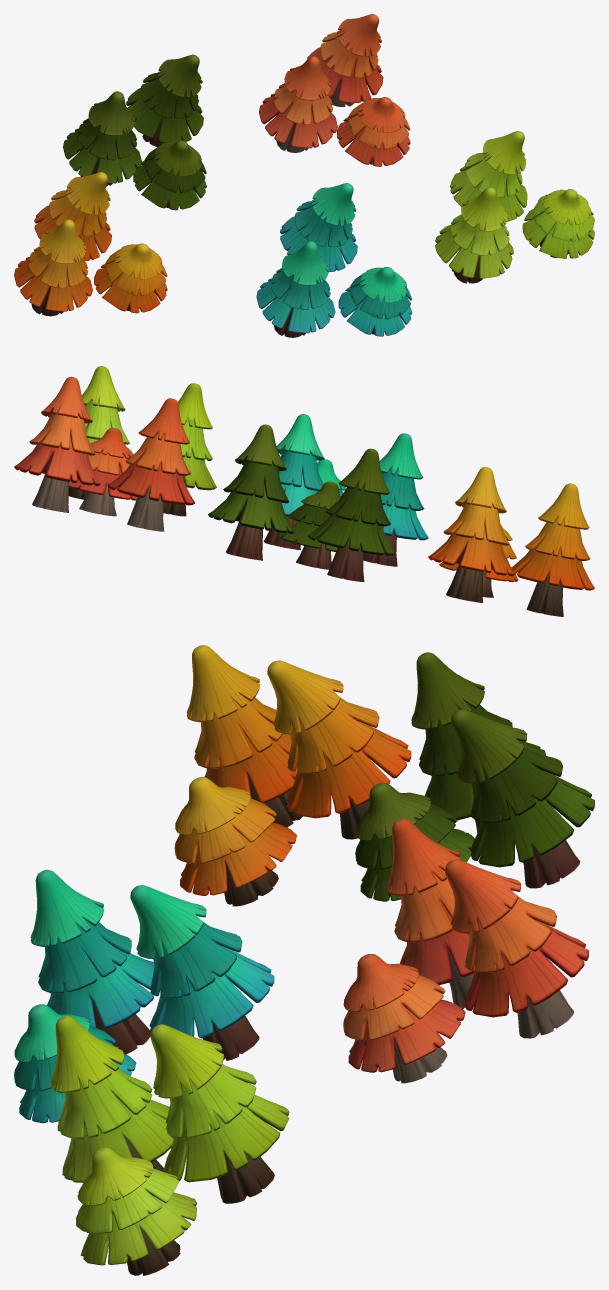
File: Pine Trees.fbx
3 renders of one model, top to bottom at view 1: azimuth 30°, elevation 25°; view 2: azimuth 150°, elevation 25°; view 3: azimuth 270°, elevation 25°, orthographic. The views are drawn at different scales.
Parts seen in each view (by area): view 1: PineTree_ Green_ Crooked_green_0, PineTree_ Red_ Crooked_red_0, PineTree_ Blue_ Crooked_blue_0, PineTree_ GreenLight_ Crooked_green_light_0, PineTree_ Yellow_ Crooked_yellow_0; view 2: PineTree_ Red_ Crooked_red_0, PineTree_ Green_ Crooked_green_0, PineTree_ Yellow_ Crooked_yellow_0, PineTree_ Blue_ Crooked_blue_0, PineTree_ GreenLight_ Crooked_green_light_0; view 3: PineTree_ GreenLight_ Crooked_green_light_0, PineTree_ Yellow_ Crooked_yellow_0, PineTree_ Red_ Crooked_red_0, PineTree_ Blue_ Crooked_blue_0, PineTree_ Green_ Crooked_green_0.
Boxes of the visible parts, bbox=[...] form: PineTree_ Green_ Crooked_green_0: bbox=[63, 54, 206, 210]; PineTree_ Red_ Crooked_red_0: bbox=[259, 14, 410, 166]; PineTree_ Blue_ Crooked_blue_0: bbox=[256, 183, 412, 337]; PineTree_ GreenLight_ Crooked_green_light_0: bbox=[435, 131, 594, 283]; PineTree_ Yellow_ Crooked_yellow_0: bbox=[14, 172, 167, 316]; PineTree_ Red_ Crooked_red_0: bbox=[14, 376, 194, 531]; PineTree_ Green_ Crooked_green_0: bbox=[208, 424, 395, 581]; PineTree_ Yellow_ Crooked_yellow_0: bbox=[428, 467, 594, 616]; PineTree_ Blue_ Crooked_blue_0: bbox=[263, 414, 428, 566]; PineTree_ GreenLight_ Crooked_green_light_0: bbox=[68, 366, 216, 516]; PineTree_ GreenLight_ Crooked_green_light_0: bbox=[50, 1015, 289, 1275]; PineTree_ Yellow_ Crooked_yellow_0: bbox=[174, 645, 411, 906]; PineTree_ Red_ Crooked_red_0: bbox=[343, 818, 588, 1083]; PineTree_ Blue_ Crooked_blue_0: bbox=[14, 869, 274, 1123]; PineTree_ Green_ Crooked_green_0: bbox=[355, 652, 594, 901].
Bounding box in the file's own units: 869 × 478 × 325.
Materials: 5 (5 with a texture image).
